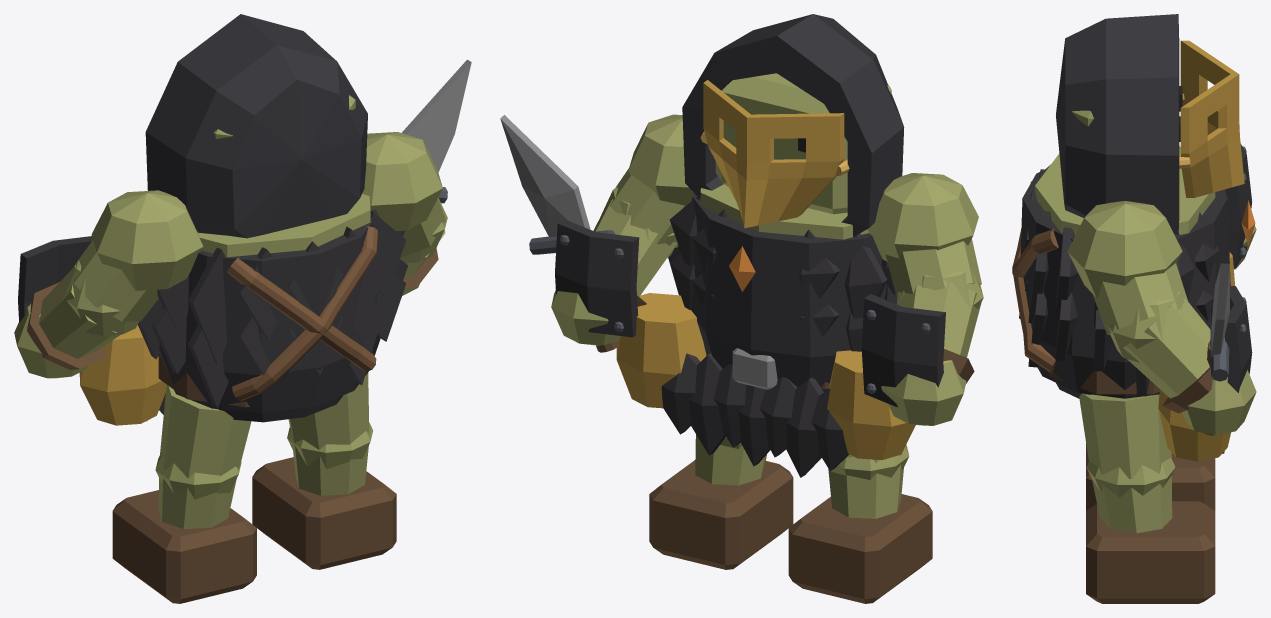
The model's file is host_16.glb.
3 renders of one model, left to right at view 1: azimuth 30°, elevation 25°; view 2: azimuth 150°, elevation 25°; view 3: azimuth 270°, elevation 25°, orthographic.
Visible parts, largest first — view 1: V6 source fitted domed cloth hood, V6 pickpocket actual fitted dark leather jacket, V6 pickpocket dark fitted layered leather contacting torn la (×12), Grounded boot L, Grounded boot R, Connected shoulder L, V6 source actual visible fitted brown crossed rear carrying  (×2), Connected shoulder R, V6 source large contacting gold side loot pouch, Upper leg L, Tailored continuous bodice, Upper arm L (+14 smaller); view 2: V6 source fitted domed cloth hood, V6 pickpocket actual fitted dark leather jacket, V6 source continuous fitted mask with real eye openings, V6 pickpocket source contacting long ragged dark front hem.0 (×6), Grounded boot L, Grounded boot R, V6 pickpocket actual fitted dark wrist bracer.001, Connected shoulder L, V6 pickpocket actual fitted dark wrist bracer, V6 source large contacting gold side loot pouch.001, V6 source large contacting gold side loot pouch, Observed face (+17 smaller); view 3: V6 source fitted domed cloth hood, Grounded boot R, V6 pickpocket actual fitted dark leather jacket, V6 source continuous fitted mask with real eye openings, Connected shoulder R, Upper leg R, V6 pickpocket dark fitted layered leather contacting torn la (×8), Forearm R, Upper arm R, Lower leg R, Grasping hand R, Tailored continuous bodice (+12 smaller).
Part boxes in pixels (bbox=[...]): V6 source fitted domed cloth hood: bbox=[145, 14, 367, 238]; V6 pickpocket actual fitted dark leather jacket: bbox=[159, 209, 380, 412]; V6 pickpocket dark fitted layered leather contacting torn la (×12): bbox=[137, 211, 406, 407]; Grounded boot L: bbox=[112, 490, 256, 603]; Grounded boot R: bbox=[252, 457, 396, 569]; Connected shoulder L: bbox=[91, 190, 203, 290]; V6 source actual visible fitted brown crossed rear carrying  (×2): bbox=[227, 226, 378, 400]; Connected shoulder R: bbox=[362, 132, 442, 231]; V6 source large contacting gold side loot pouch: bbox=[79, 325, 166, 425]; Upper leg L: bbox=[160, 385, 251, 478]; Tailored continuous bodice: bbox=[198, 194, 370, 257]; Upper arm L: bbox=[73, 240, 158, 321]; V6 source fitted domed cloth hood: bbox=[682, 14, 904, 236]; V6 pickpocket actual fitted dark leather jacket: bbox=[691, 193, 886, 391]; V6 source continuous fitted mask with real eye openings: bbox=[703, 80, 844, 228]; V6 pickpocket source contacting long ragged dark front hem.0 (×6): bbox=[661, 353, 823, 477]; Grounded boot L: bbox=[788, 494, 932, 603]; Grounded boot R: bbox=[649, 460, 793, 569]; V6 pickpocket actual fitted dark wrist bracer.001: bbox=[555, 219, 639, 337]; Connected shoulder L: bbox=[867, 173, 978, 262]; V6 pickpocket actual fitted dark wrist bracer: bbox=[861, 294, 945, 407]; V6 source large contacting gold side loot pouch.001: bbox=[616, 293, 706, 408]; V6 source large contacting gold side loot pouch: bbox=[827, 350, 915, 460]; Observed face: bbox=[715, 73, 891, 214]; V6 source fitted domed cloth hood: bbox=[1056, 14, 1179, 234]; Grounded boot R: bbox=[1086, 501, 1215, 603]; V6 pickpocket actual fitted dark leather jacket: bbox=[1020, 168, 1230, 398]; V6 source continuous fitted mask with real eye openings: bbox=[1180, 40, 1244, 197]; Connected shoulder R: bbox=[1067, 201, 1182, 297]; Upper leg R: bbox=[1079, 393, 1171, 478]; V6 pickpocket dark fitted layered leather contacting torn la (×8): bbox=[1028, 210, 1218, 371]; Forearm R: bbox=[1117, 298, 1210, 398]; Upper arm R: bbox=[1092, 263, 1187, 334]; Lower leg R: bbox=[1092, 476, 1172, 533]; Grasping hand R: bbox=[1182, 370, 1256, 435]; Tailored continuous bodice: bbox=[1035, 148, 1215, 235].
Bounding box in the file's own units: 1.36 × 1.52 × 0.6237.
